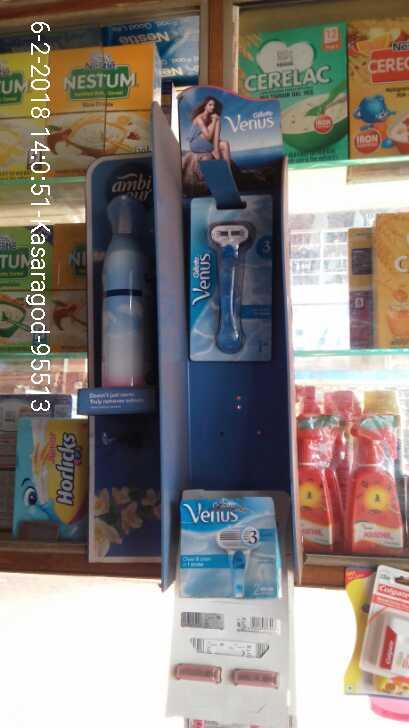beauty: (186, 200, 264, 363), (181, 495, 291, 599)
home: (96, 192, 153, 397)
